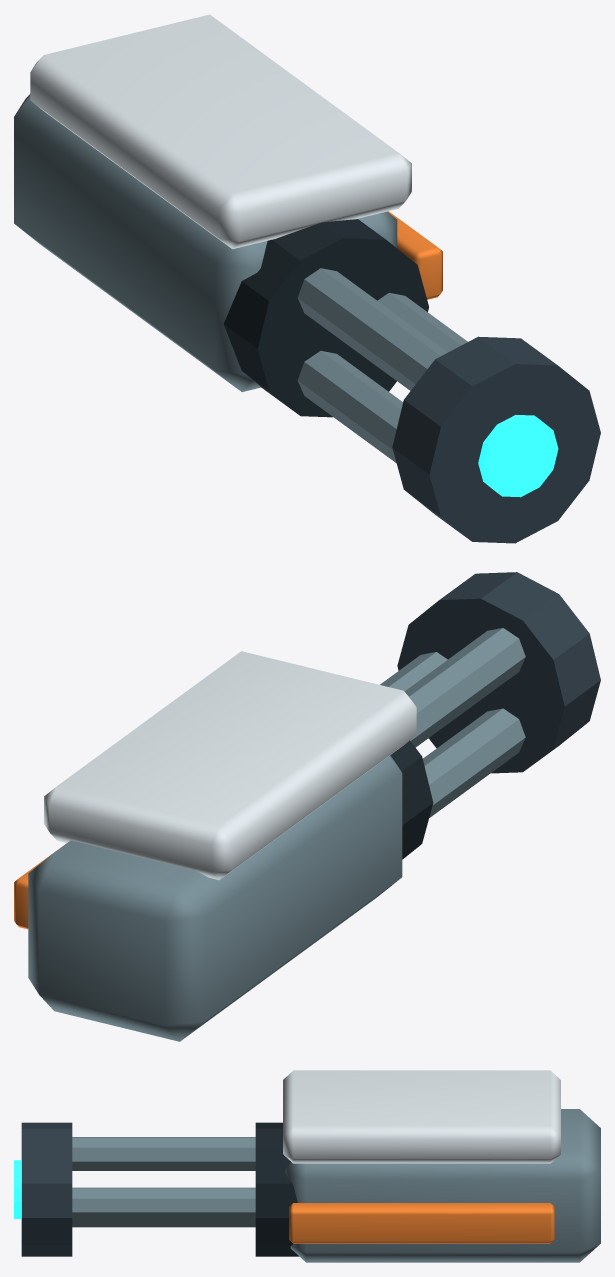
File: striker_weapon.glb
3 views of the same model, one above another, from view 1: azimuth 30°, elevation 25°; view 2: azimuth 150°, elevation 25°; view 3: azimuth 270°, elevation 25° (orthographic). The views are drawn at different scales.
Visible parts, largest first — view 1: WEAPON | white upper shroud, VISUAL | weapon | Striker | brushed steel, WEAPON | muzzle brake, WEAPON | rotary barrel hub, WEAPON | muzzle glow, WEAPON | orange side rail; view 2: VISUAL | weapon | Striker | brushed steel, WEAPON | white upper shroud, WEAPON | muzzle brake, WEAPON | rotary barrel hub, WEAPON | orange side rail; view 3: VISUAL | weapon | Striker | brushed steel, WEAPON | white upper shroud, WEAPON | orange side rail, WEAPON | muzzle brake, WEAPON | rotary barrel hub, WEAPON | muzzle glow.
Boxes of the visible parts, x1,y1,x2,y2 form: WEAPON | white upper shroud: [30, 14, 411, 249]; VISUAL | weapon | Striker | brushed steel: [14, 94, 467, 462]; WEAPON | muzzle brake: [392, 336, 600, 543]; WEAPON | rotary barrel hub: [223, 219, 428, 417]; WEAPON | muzzle glow: [478, 415, 558, 497]; WEAPON | orange side rail: [387, 211, 442, 299]; VISUAL | weapon | Striker | brushed steel: [28, 628, 525, 1041]; WEAPON | white upper shroud: [44, 651, 416, 880]; WEAPON | muzzle brake: [397, 572, 600, 773]; WEAPON | rotary barrel hub: [391, 740, 433, 859]; WEAPON | orange side rail: [14, 844, 65, 929]; VISUAL | weapon | Striker | brushed steel: [72, 1109, 600, 1262]; WEAPON | white upper shroud: [283, 1070, 560, 1163]; WEAPON | orange side rail: [289, 1203, 554, 1243]; WEAPON | muzzle brake: [21, 1122, 72, 1256]; WEAPON | rotary barrel hub: [255, 1122, 298, 1256]; WEAPON | muzzle glow: [14, 1160, 20, 1218].
Bounding box in the file's own units: 0.4175 × 0.4 × 1.39.
